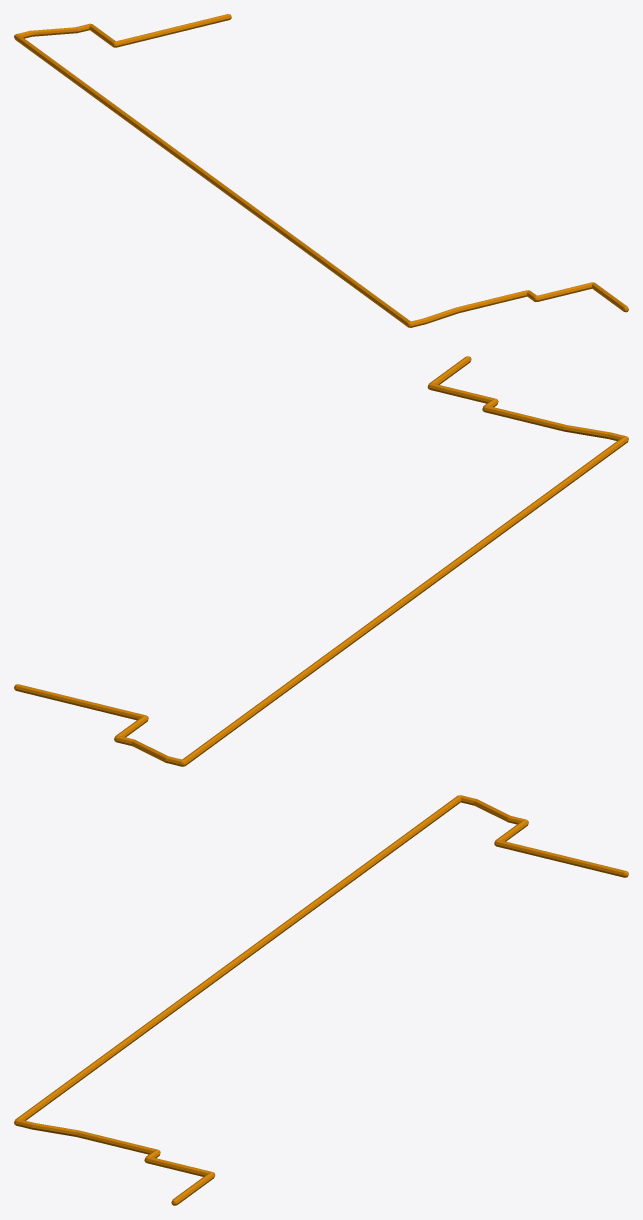
3 renders of one model, top to bottom at view 1: azimuth 30°, elevation 25°; view 2: azimuth 150°, elevation 25°; view 3: azimuth 330°, elevation 25°, orthographic. The views are drawn at different scales.
Size of the model in its own units: 652 by 20 by 2651.
